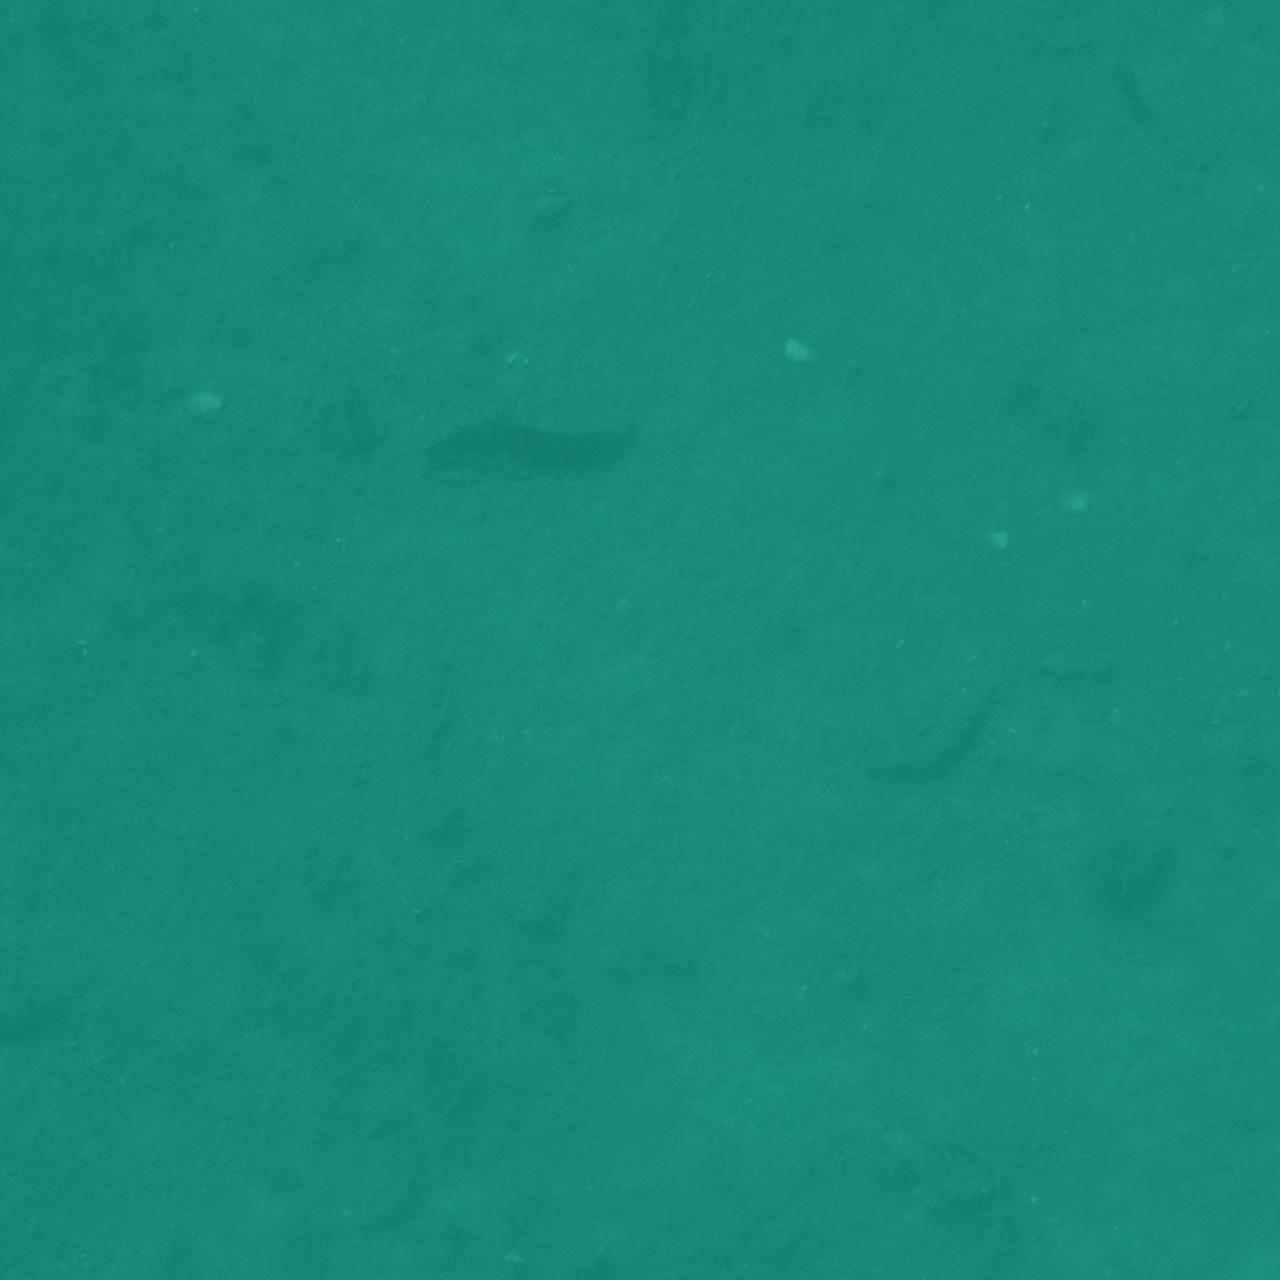Holothuria tubulosa: (863, 636, 1055, 812), (418, 396, 696, 510), (1182, 633, 1280, 815), (0, 278, 68, 523), (1157, 835, 1280, 928)
